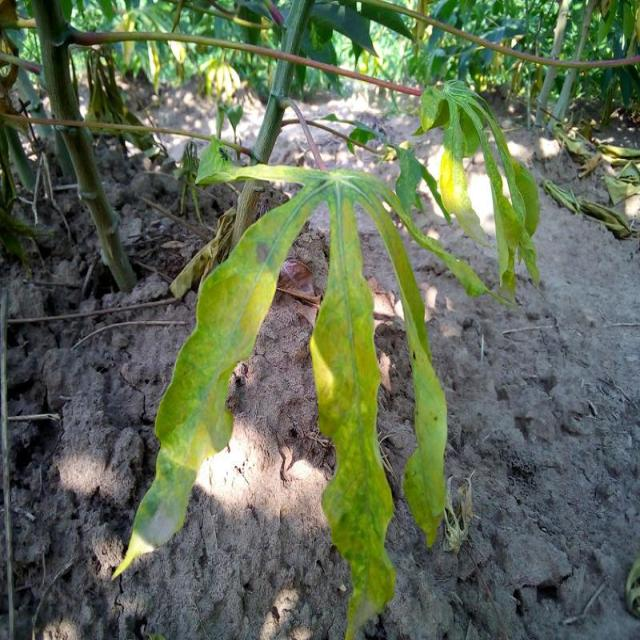cassava leaf: (114, 159, 452, 636), (308, 176, 397, 638)
